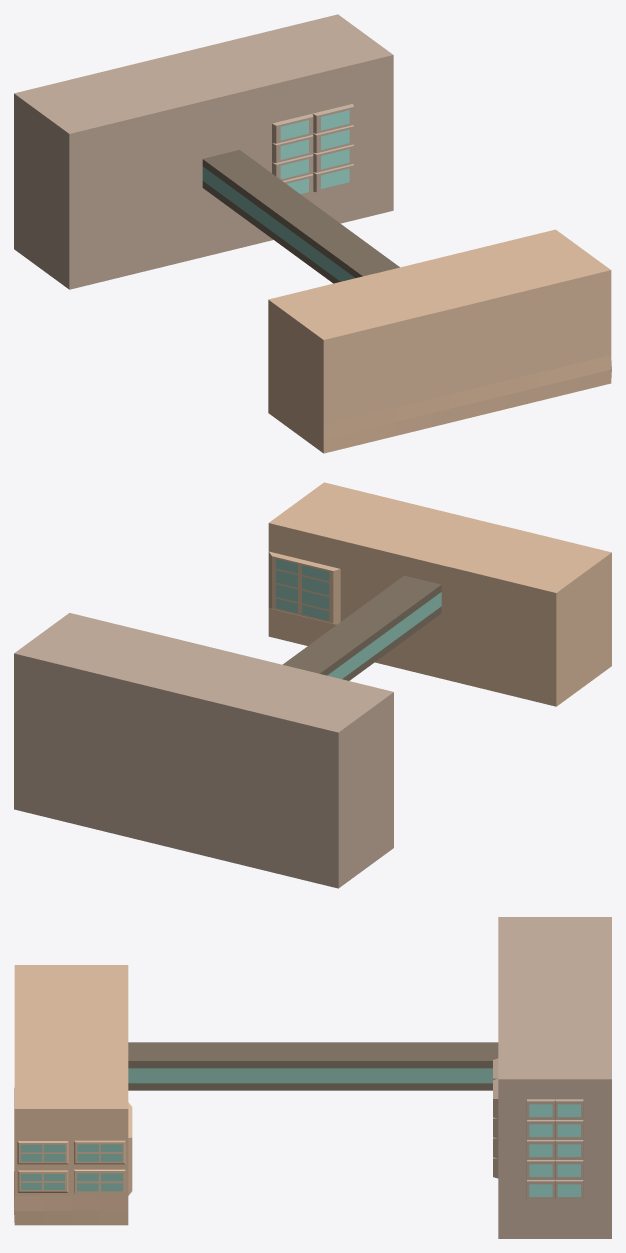
The model's file is buildings+bridge.glb.
The picture shows the model from 3 angles, top to bottom: view 1: azimuth 30°, elevation 25°; view 2: azimuth 150°, elevation 25°; view 3: azimuth 270°, elevation 25°; orthographic projection. The views are drawn at different scales.
Visible parts, largest first — view 1: Cube.002, Cube, Cube.001; view 2: Cube.002, Cube, Cube.001; view 3: Cube.002, Cube, Cube.001.
Part boxes in pixels (bbox=[...]): Cube.002: bbox=[14, 14, 393, 289]; Cube: bbox=[268, 229, 611, 453]; Cube.001: bbox=[202, 150, 399, 283]; Cube.002: bbox=[14, 613, 393, 888]; Cube: bbox=[268, 482, 611, 706]; Cube.001: bbox=[282, 575, 441, 680]; Cube.002: bbox=[493, 917, 611, 1238]; Cube: bbox=[14, 965, 132, 1225]; Cube.001: bbox=[128, 1042, 498, 1090].
Size of what is drawn, in the model's own units: 25.71 by 11.69 by 39.69.
